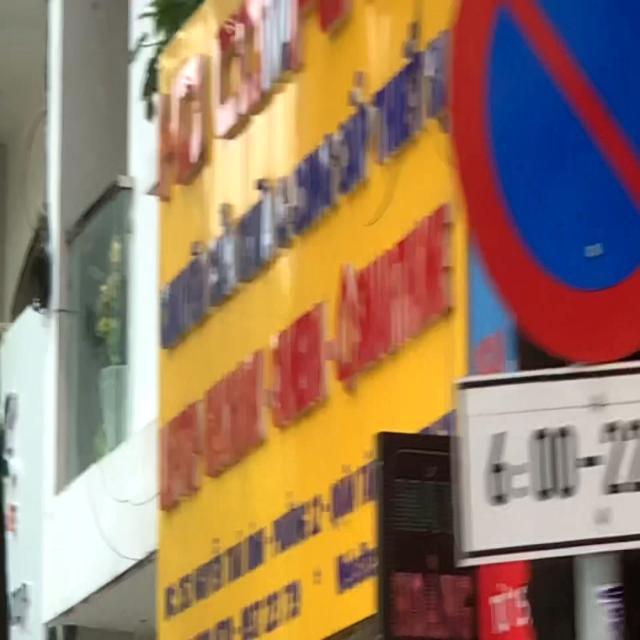131a-cam-do-xe: (447, 0, 640, 366)
